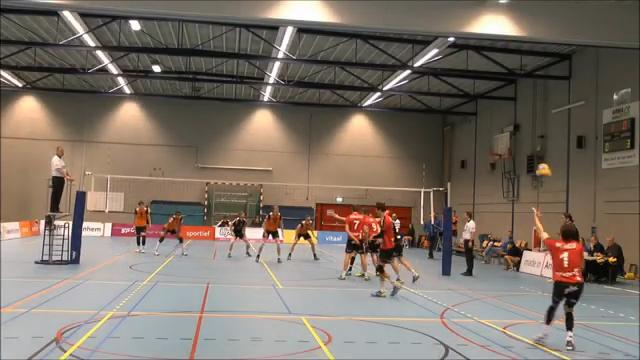Player: (372, 202, 401, 296), (339, 205, 370, 281), (391, 217, 419, 283), (255, 206, 282, 262), (154, 211, 187, 256), (287, 216, 318, 259), (227, 211, 251, 257), (363, 209, 381, 268), (134, 201, 150, 252), (345, 252, 355, 275), (216, 215, 229, 227)
Serve: (525, 205, 589, 353)
ball: (536, 161, 552, 178)
